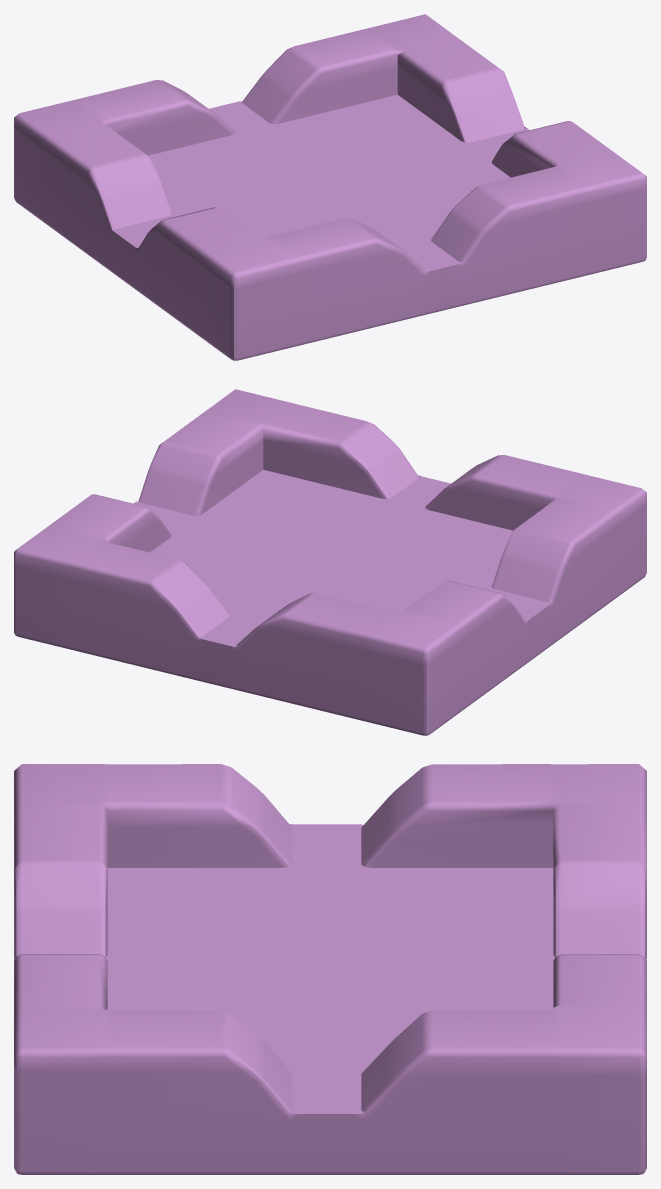
The model's file is AshTray01.fbx.
3 renders of one model, top to bottom at view 1: azimuth 30°, elevation 25°; view 2: azimuth 150°, elevation 25°; view 3: azimuth 270°, elevation 25°, orthographic. The views are drawn at different scales.
Visible parts, largest first — view 1: AshTray01_Modelling_v002:AshTray_AshTray; view 2: AshTray01_Modelling_v002:AshTray_AshTray; view 3: AshTray01_Modelling_v002:AshTray_AshTray.
Part boxes in pixels (<box>): AshTray01_Modelling_v002:AshTray_AshTray: <box>14,14,646,360</box>; AshTray01_Modelling_v002:AshTray_AshTray: <box>14,389,646,735</box>; AshTray01_Modelling_v002:AshTray_AshTray: <box>14,764,646,1174</box>.
Bounding box in the file's own units: 8.78 × 1.8 × 8.11.
1 material, 1 textured.
